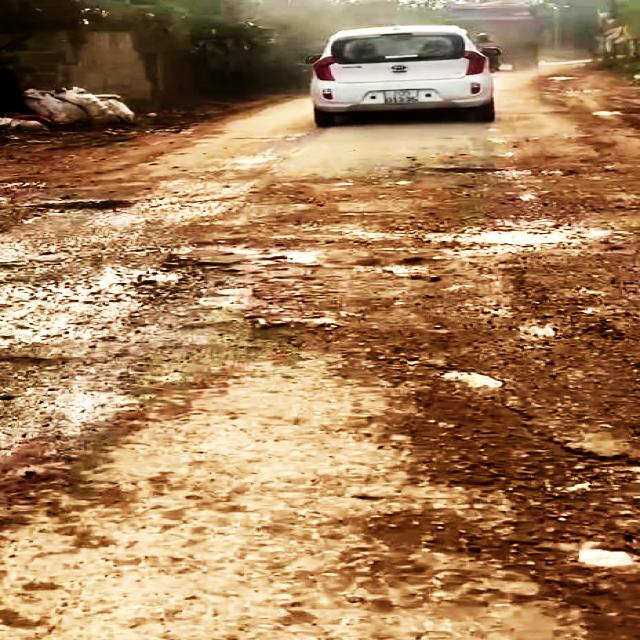pothole: (0, 231, 303, 357), (406, 221, 620, 253)
